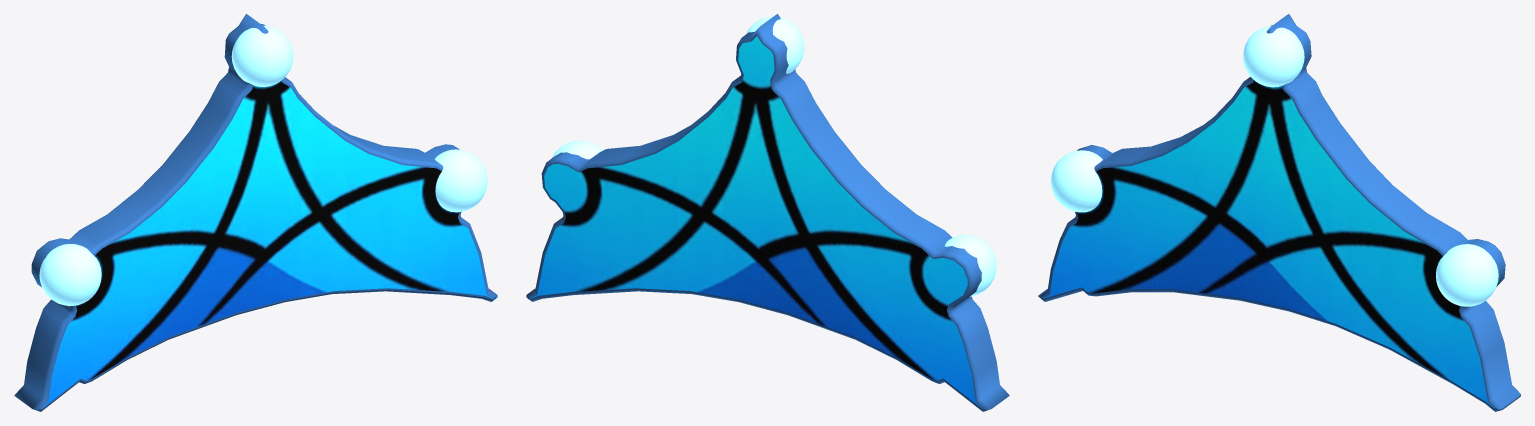
File: strativu-mark.glb
3 views of the same model, side by side, from view 1: azimuth 30°, elevation 25°; view 2: azimuth 150°, elevation 25°; view 3: azimuth 330°, elevation 25° (orthographic).
Parts seen in each view (by area): view 1: StrativuMark; view 2: StrativuMark; view 3: StrativuMark.
Part boxes in pixels (left/top/right/bottom): StrativuMark: left=14, top=14, right=497, bottom=411; StrativuMark: left=526, top=14, right=1009, bottom=411; StrativuMark: left=1038, top=14, right=1520, bottom=411.
Size of the model in its own units: 1.99 by 1.35 by 0.2453.
3 materials, 1 textured.
